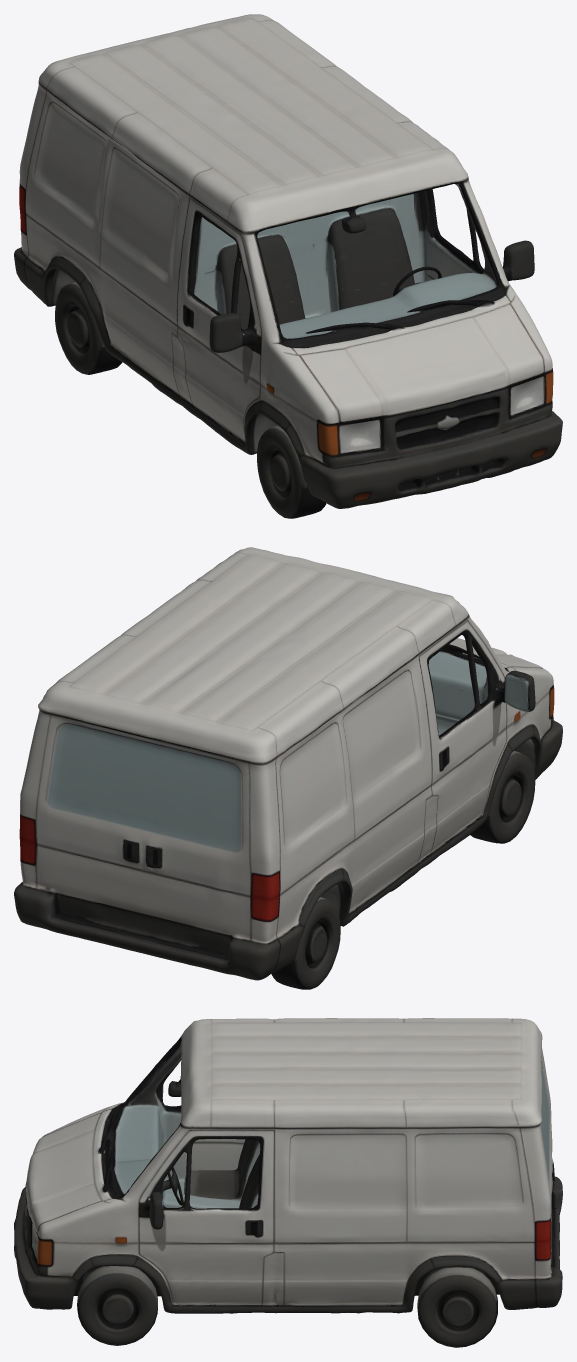
The model's file is SM_Vehicle_RustedCargoVan_01.fbx.
3 views of the same model, one above another, from view 1: azimuth 30°, elevation 25°; view 2: azimuth 150°, elevation 25°; view 3: azimuth 270°, elevation 25° (orthographic). The views are drawn at different scales.
Parts seen in each view (by area): view 1: SM_Vehicle_RustedCargoVan_01; view 2: SM_Vehicle_RustedCargoVan_01; view 3: SM_Vehicle_RustedCargoVan_01.
Boxes of the visible parts, bbox=[...] form: SM_Vehicle_RustedCargoVan_01: bbox=[14, 14, 562, 518]; SM_Vehicle_RustedCargoVan_01: bbox=[14, 547, 562, 989]; SM_Vehicle_RustedCargoVan_01: bbox=[14, 1018, 562, 1347].
Bounding box in the file's own units: 0.5808 × 0.4802 × 0.9981.
1 material, 1 textured.
